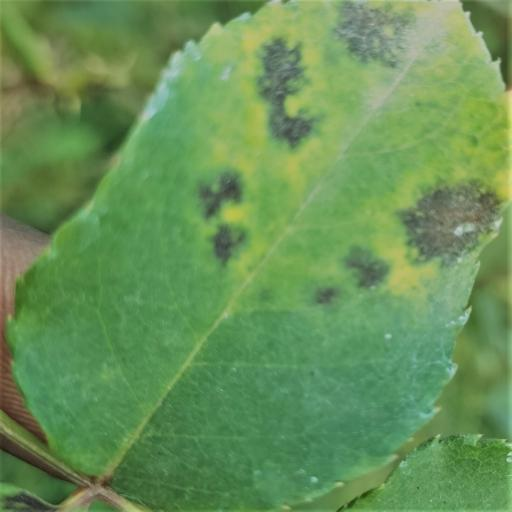black_spot: (9, 0, 509, 512)
